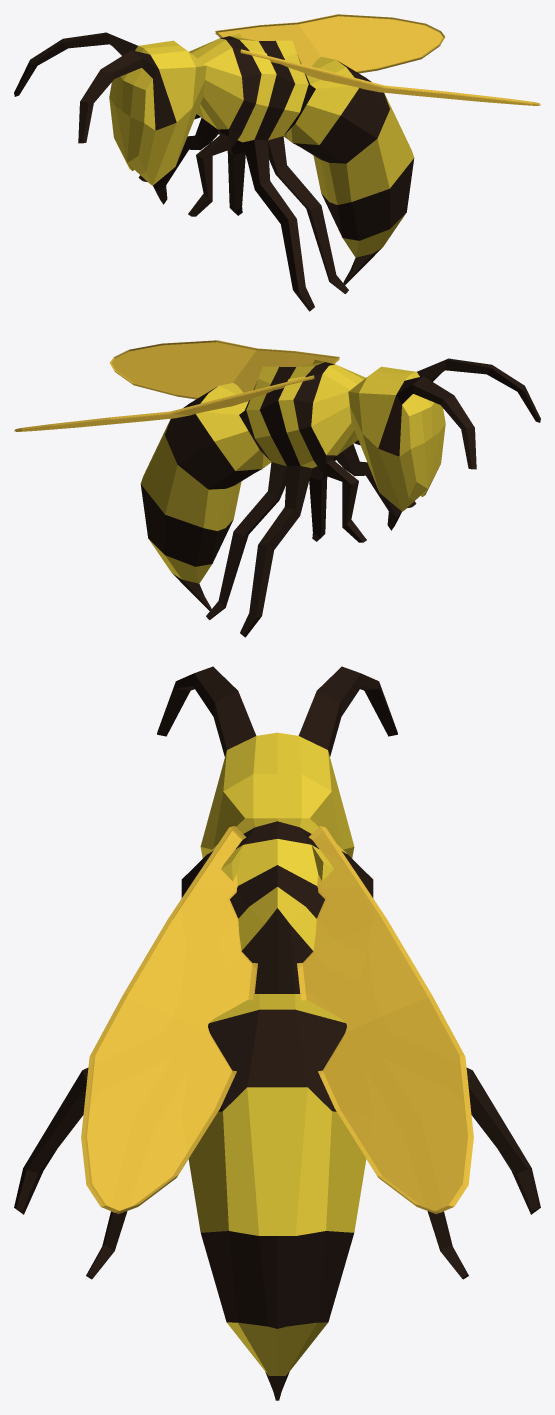
File: stylised wasp.fbx
The picture shows the model from 3 angles, top to bottom: view 1: azimuth 30°, elevation 25°; view 2: azimuth 150°, elevation 25°; view 3: azimuth 270°, elevation 25°; orthographic projection. The views are drawn at different scales.
Visible parts, largest first — view 1: Plane; view 2: Plane; view 3: Plane.
Boxes of the visible parts, <box> form: Plane: <box>14,14,540,311</box>; Plane: <box>14,340,540,637</box>; Plane: <box>14,666,540,1400</box>.
Size of the model in its own units: 410 by 265 by 243.
